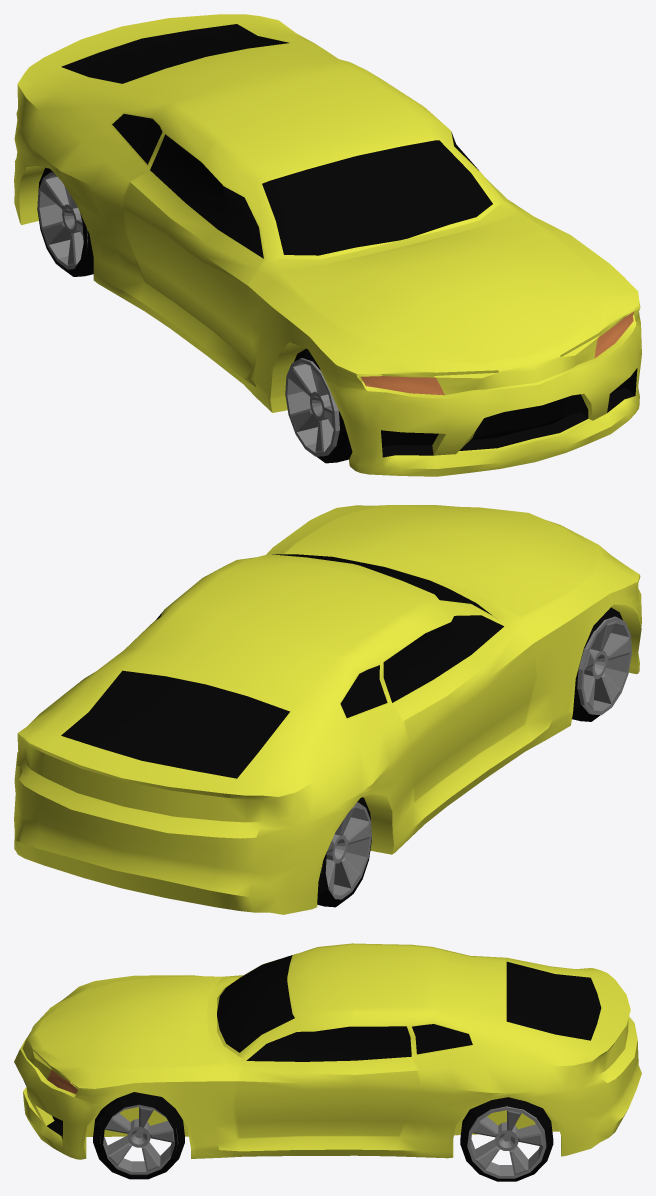
Rendered from auto con ruedas pintado.fbx.
3 renders of one model, top to bottom at view 1: azimuth 30°, elevation 25°; view 2: azimuth 150°, elevation 25°; view 3: azimuth 270°, elevation 25°, orthographic. The views are drawn at different scales.
Visible parts, largest first — view 1: CUERPO, Rueda 3, Rueda 4; view 2: CUERPO, Rueda 3, Rueda 4; view 3: CUERPO, Rueda 1, Rueda 2.
Boxes of the visible parts, x1,y1,x2,y2 form: CUERPO: [14, 14, 641, 476]; Rueda 3: [285, 348, 352, 463]; Rueda 4: [37, 167, 93, 276]; CUERPO: [14, 505, 641, 914]; Rueda 3: [572, 607, 631, 721]; Rueda 4: [317, 797, 371, 907]; CUERPO: [14, 943, 641, 1159]; Rueda 1: [93, 1092, 184, 1179]; Rueda 2: [460, 1097, 553, 1181].
Bounding box in the file's own units: 126 × 81.16 × 296.
